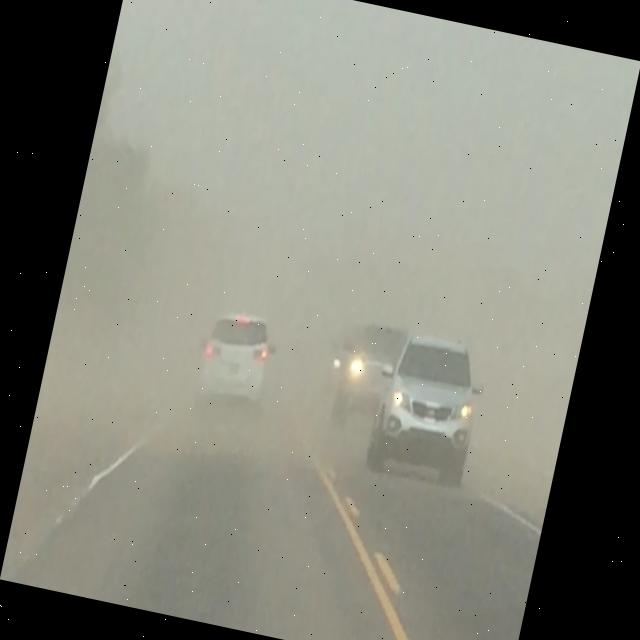car: (364, 332, 488, 490), (322, 316, 406, 439), (194, 305, 280, 411)
